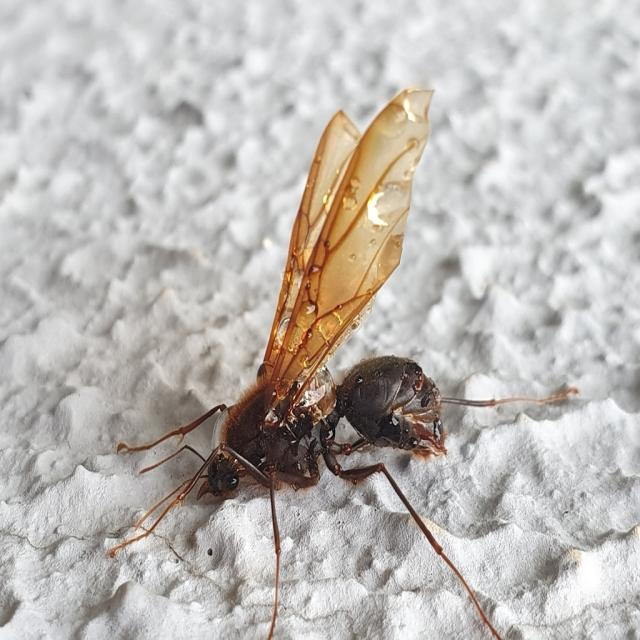Alive-Male-Alate: (109, 86, 580, 640)
